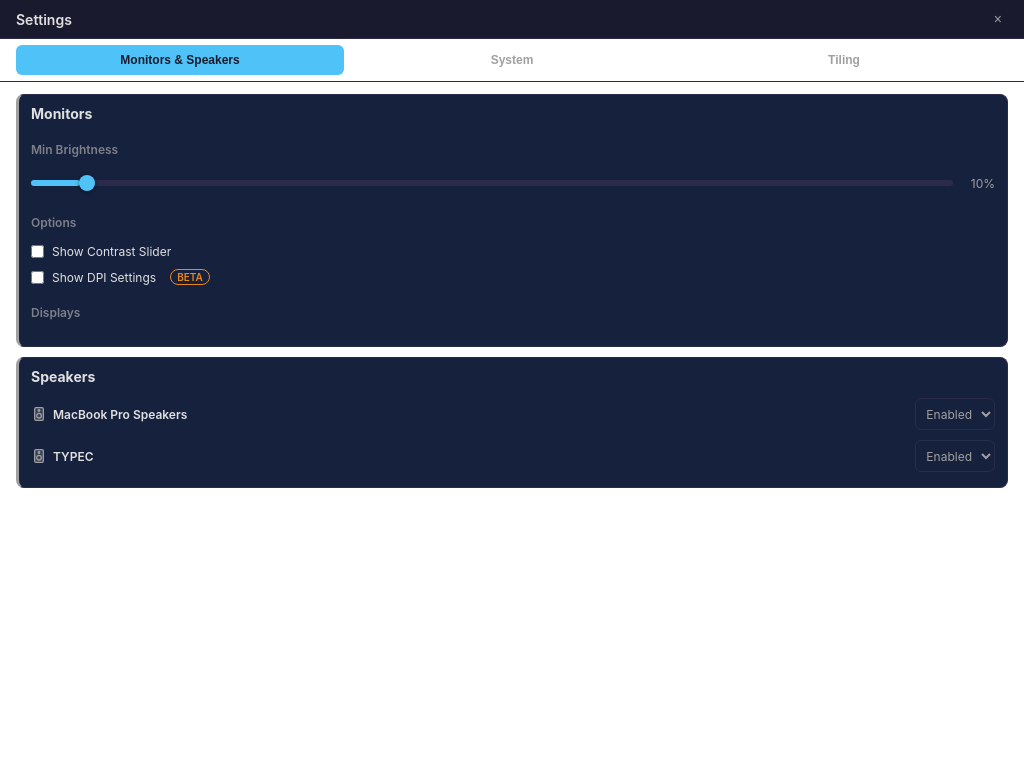
Test: SettingsPanel › enables wallpaper slideshow and reveals folder/interval/order controls
Click the button "System": (512, 60) [348,45,676,75]
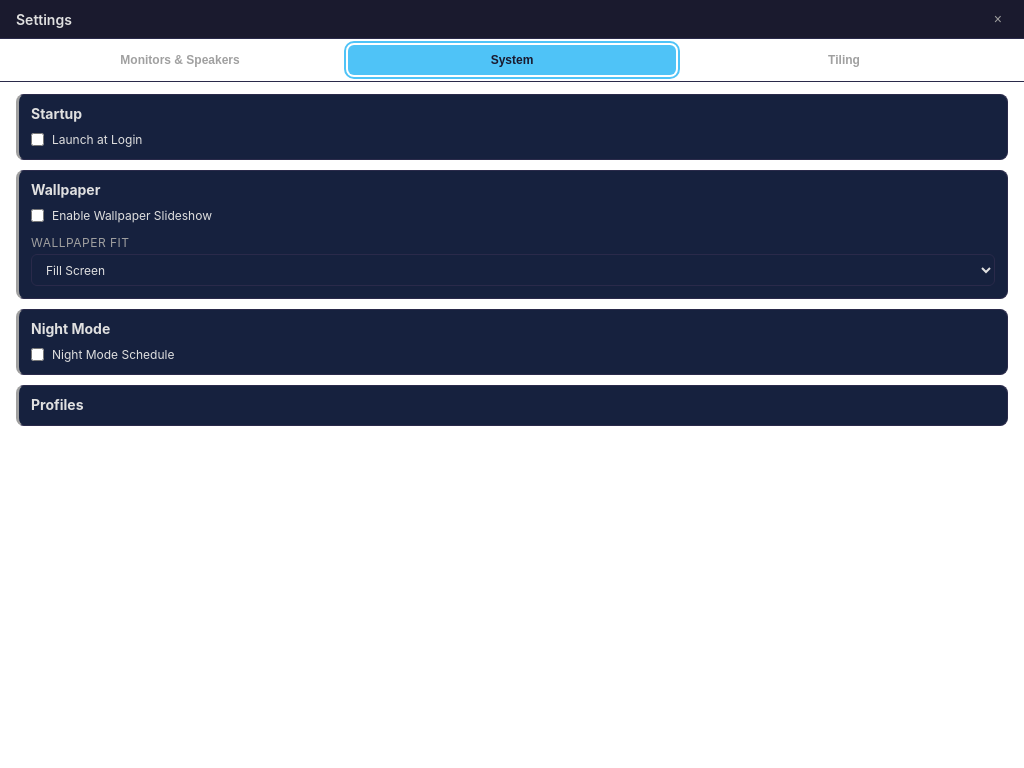
Click the checkbox labelled "Enable Wallpaper Slideshow": (38, 216) [31,209,44,222]
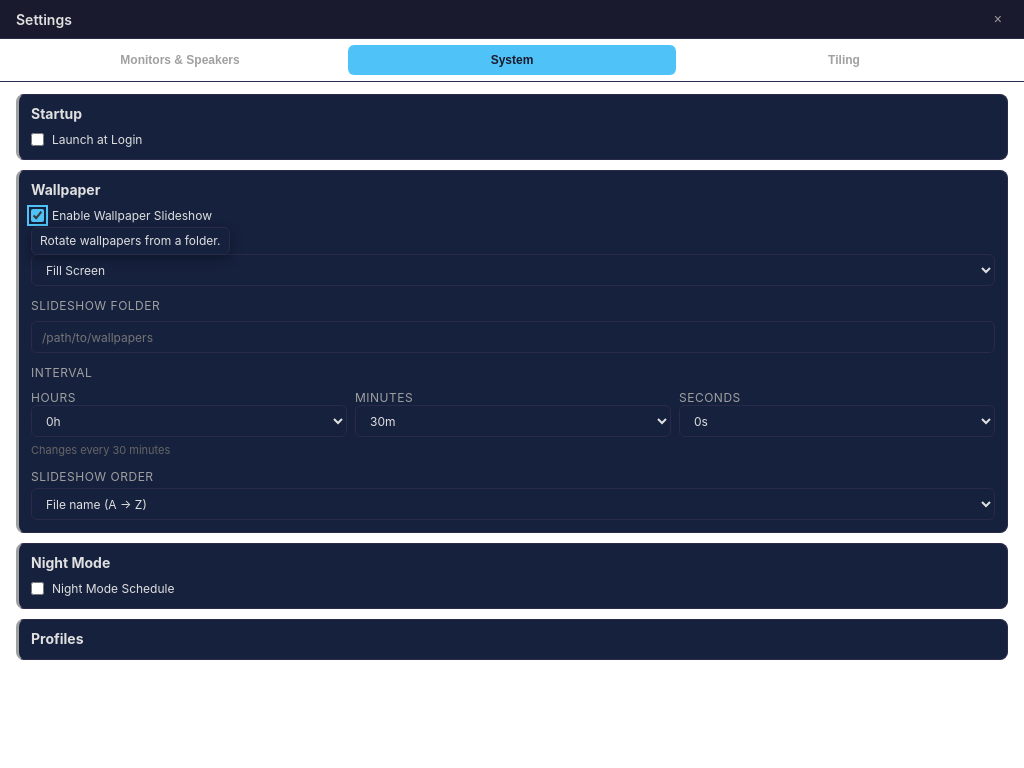
Expected: the text "Slideshow Folder" is shown, [31,298,160,313]
Expected: the text "Interval" is shown, [31,365,92,380]
Expected: the text "Slideshow Order" is shown, [31,469,154,484]
